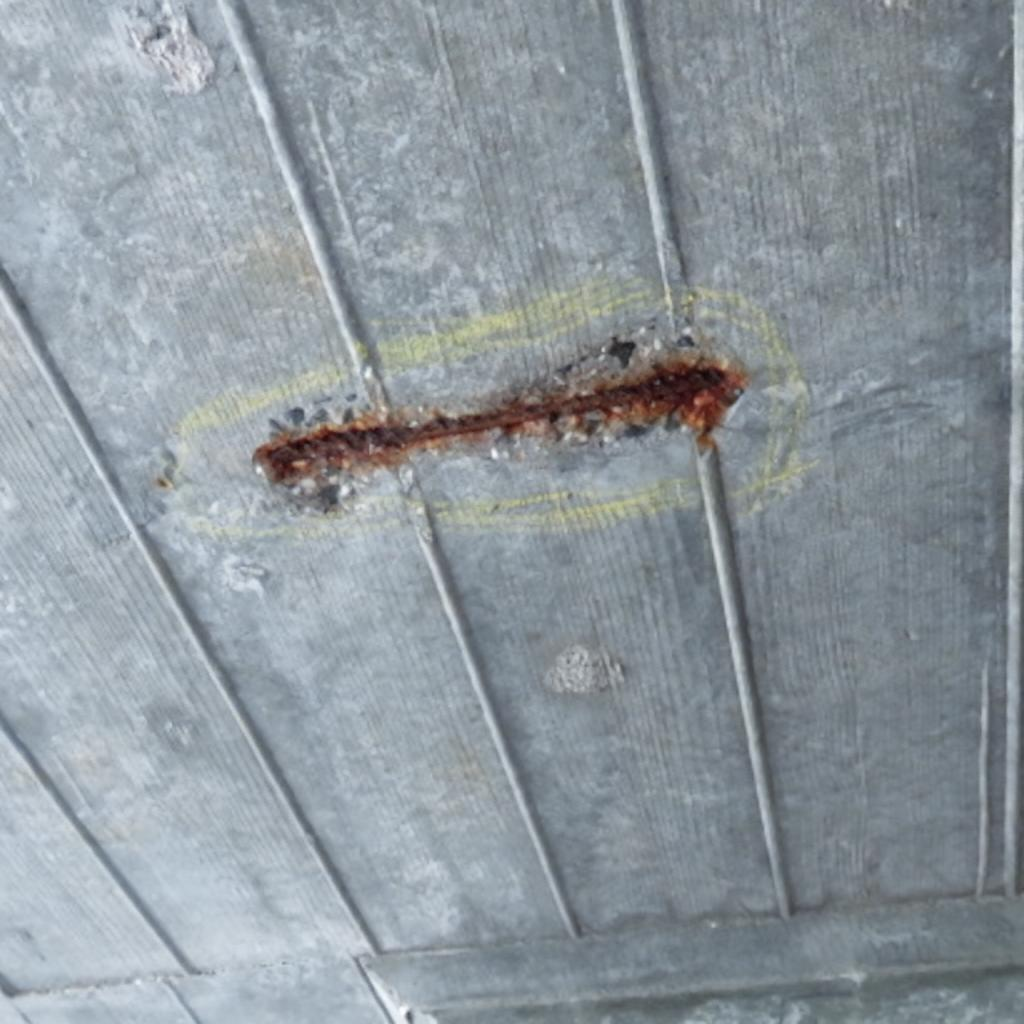exposed_rebar: (254, 362, 742, 482)
spalling: (254, 338, 750, 507)
